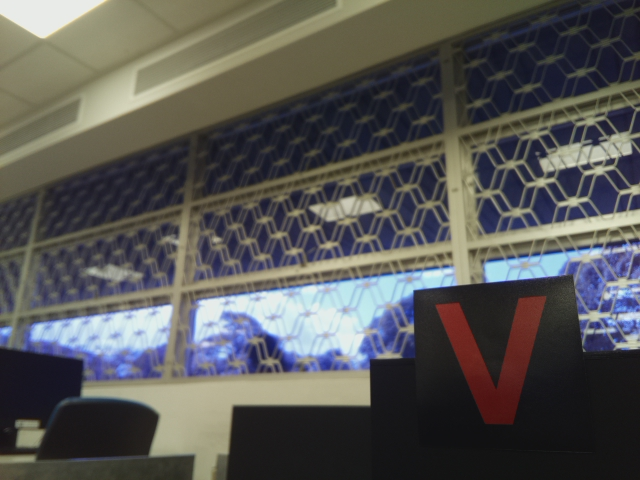v: (427, 298, 562, 425)
